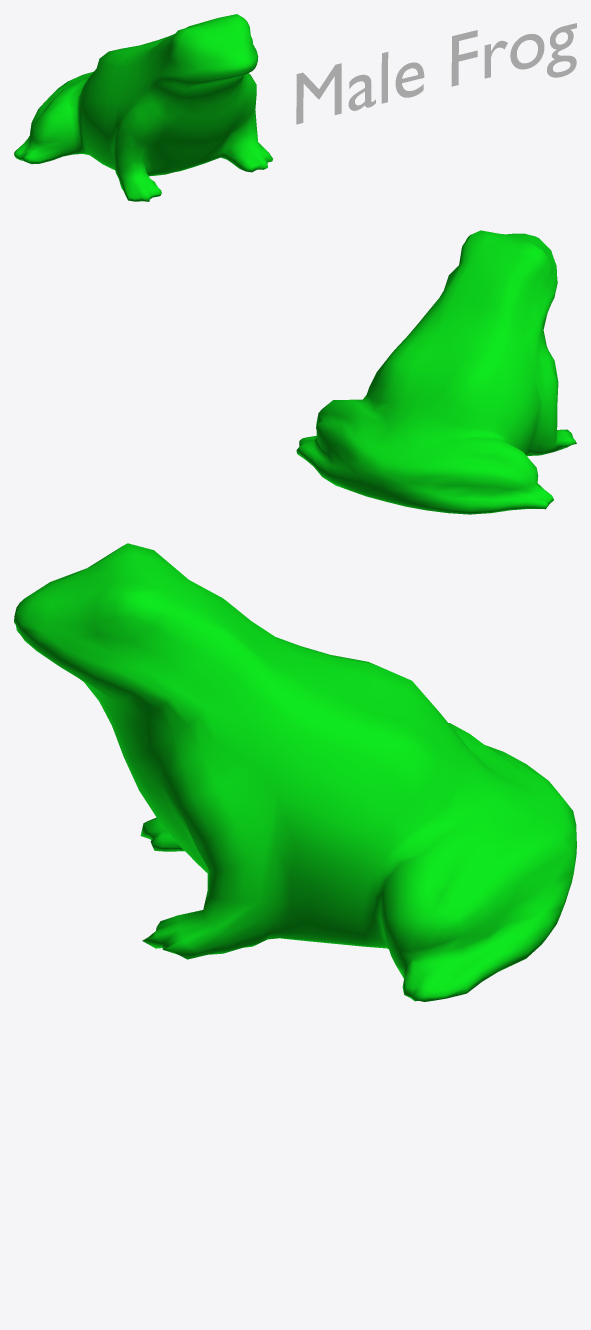
Rendered from malefrog.gltf.
3 views of the same model, one above another, from view 1: azimuth 30°, elevation 25°; view 2: azimuth 150°, elevation 25°; view 3: azimuth 270°, elevation 25° (orthographic). The views are drawn at different scales.
Visible parts, largest first — view 1: Ceramic-frog_low-poly, Text; view 2: Ceramic-frog_low-poly; view 3: Ceramic-frog_low-poly.
Boxes of the visible parts, x1,y1,x2,y2 form: Ceramic-frog_low-poly: [14, 14, 272, 201]; Text: [296, 23, 576, 124]; Ceramic-frog_low-poly: [296, 230, 576, 514]; Ceramic-frog_low-poly: [14, 543, 576, 1001].
Bounding box in the file's own units: 0.5611 × 0.1874 × 0.2627.
